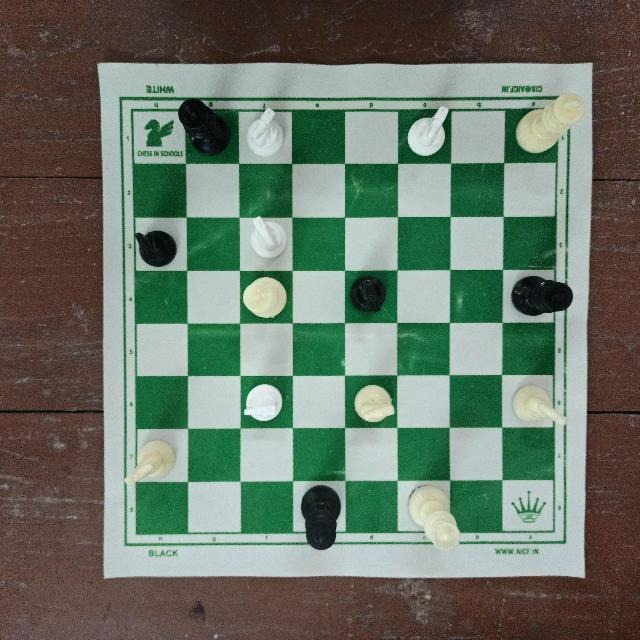black-king: (162, 92, 230, 156), (296, 483, 347, 555), (508, 277, 578, 320)
black-knight: (129, 222, 183, 271), (346, 270, 393, 317)
white-king: (512, 86, 588, 159), (239, 273, 293, 326)
white-knight: (509, 379, 573, 437), (117, 437, 176, 492), (240, 103, 288, 161), (245, 215, 297, 267), (407, 100, 451, 158), (347, 377, 394, 427), (241, 376, 289, 424)
white-queen: (400, 485, 466, 561)
